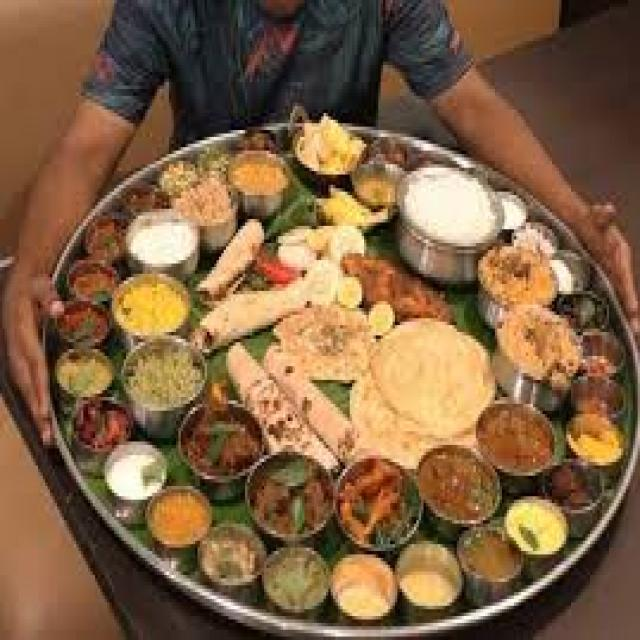curd: (395, 157, 512, 264), (118, 207, 209, 276), (98, 438, 177, 506)
dal: (114, 335, 209, 420), (108, 264, 200, 340), (501, 488, 579, 571), (136, 484, 217, 552), (539, 460, 602, 520), (230, 146, 288, 201)
papad: (345, 312, 503, 475)
sambar-rasam: (237, 448, 339, 544), (473, 395, 569, 477), (139, 484, 217, 552), (540, 457, 604, 518)
sweet: (238, 449, 334, 543), (179, 396, 263, 481), (70, 211, 134, 276), (66, 397, 134, 453)
veg-fry: (191, 525, 266, 597)
